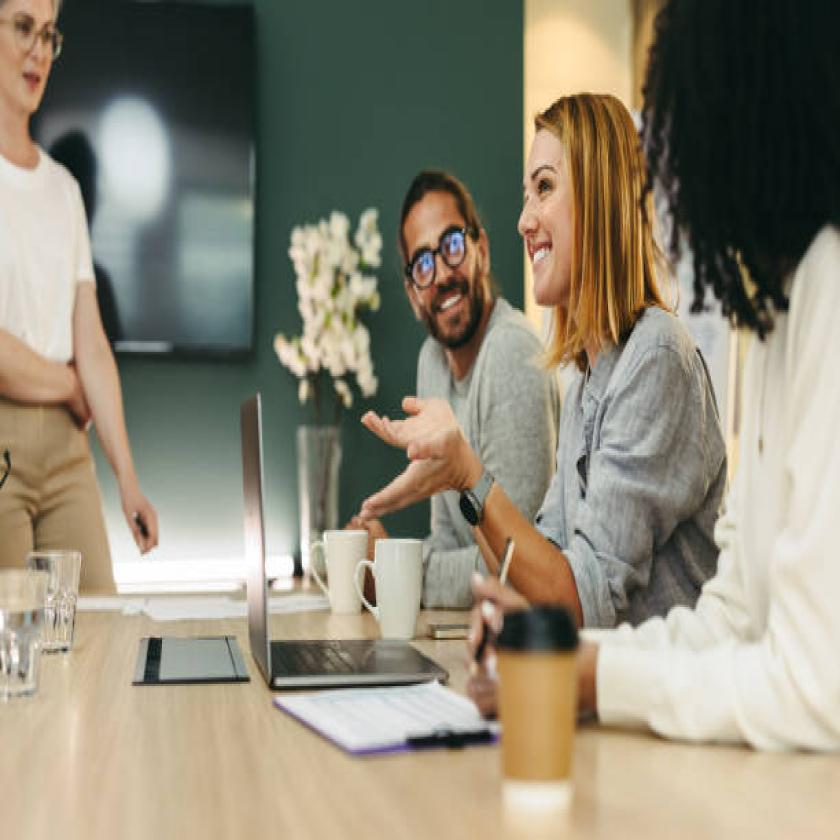Sin_casco: (516, 81, 668, 351), (384, 142, 510, 374), (0, 0, 65, 141)
